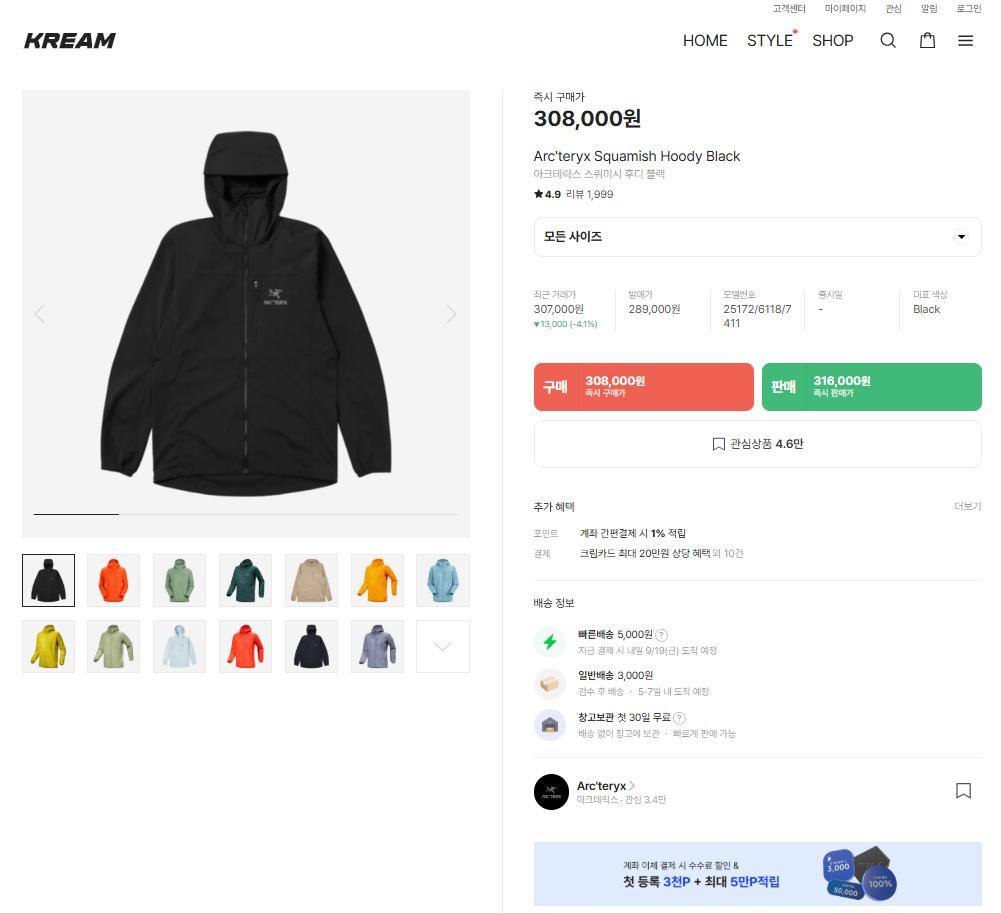button: (761, 361, 983, 411), (532, 362, 752, 412), (356, 621, 408, 670), (156, 620, 208, 669), (221, 620, 273, 669), (291, 621, 343, 670), (86, 556, 138, 605), (21, 556, 73, 605), (418, 621, 469, 670), (419, 555, 470, 604), (24, 620, 75, 669), (89, 620, 140, 669), (219, 556, 270, 605), (154, 556, 205, 605), (286, 558, 338, 606), (354, 558, 405, 606), (946, 775, 979, 805), (816, 31, 863, 51), (751, 29, 798, 49), (685, 31, 731, 51), (824, 3, 872, 16), (768, 3, 808, 16), (952, 3, 991, 16), (878, 32, 903, 52), (952, 500, 985, 515), (914, 32, 936, 52), (955, 31, 975, 51), (914, 3, 942, 15), (882, 2, 904, 14)
checkbox: (530, 215, 982, 259)
popup: (530, 840, 981, 906)
